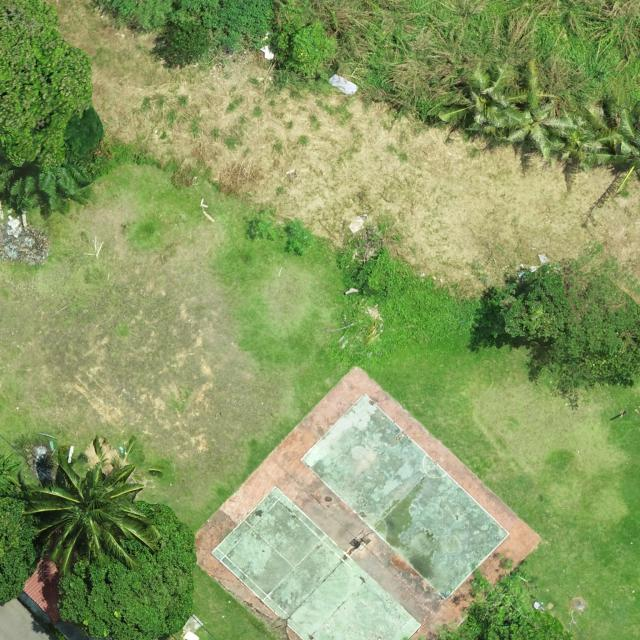banana_tree2: (0, 450, 21, 498)
tree: (22, 434, 166, 572), (56, 500, 197, 640), (500, 257, 640, 391), (0, 0, 95, 174), (502, 58, 586, 163), (568, 97, 640, 195), (438, 61, 528, 137), (0, 156, 95, 220), (0, 496, 47, 608)
